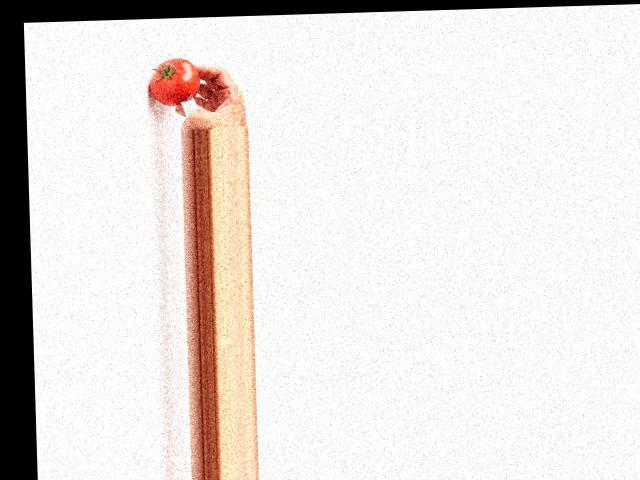tomato: (149, 57, 200, 106)
